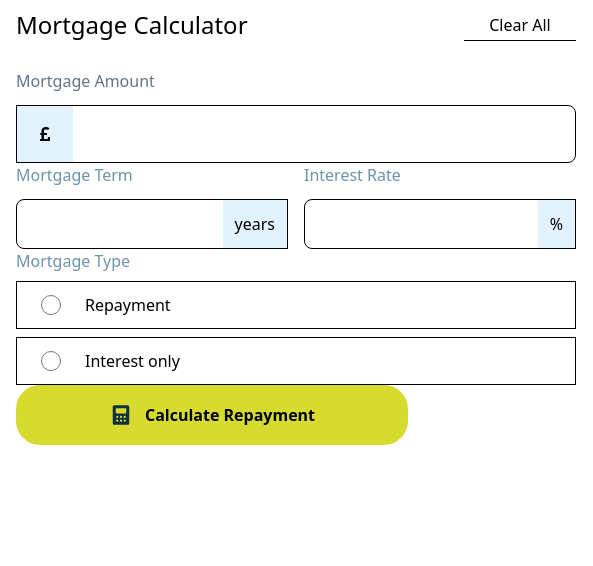
Test: Calculator Component › should display error messages when fields are empty
# Click the submit button
Click the button "Calculate Repayment" at (212, 415), box [16,385,408,445]
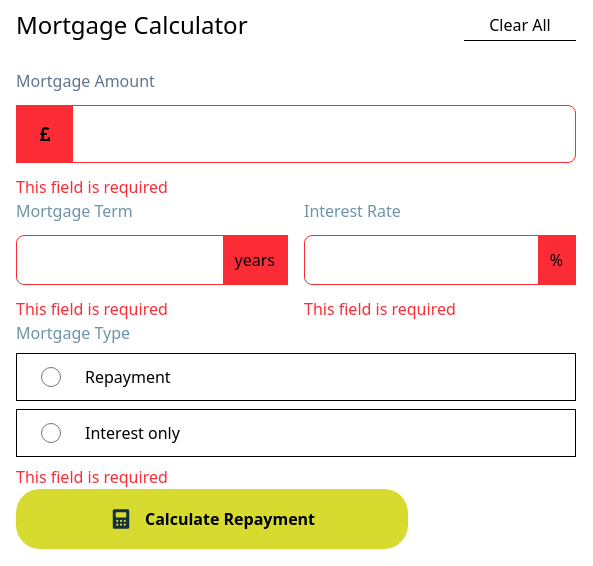
expect the text "This field is required" below "Mortgage Amount" is shown: met, box [16,176,168,198]
